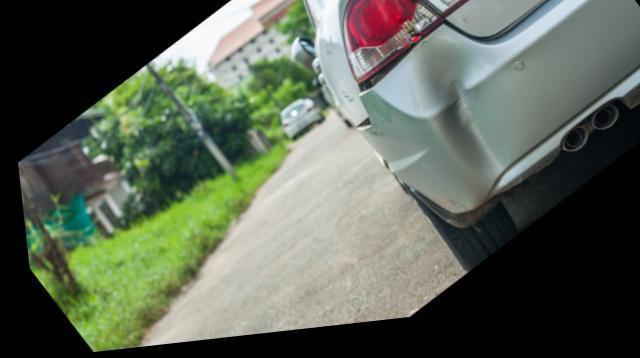dent: (407, 46, 508, 186)
lamp broken: (343, 0, 444, 93)
